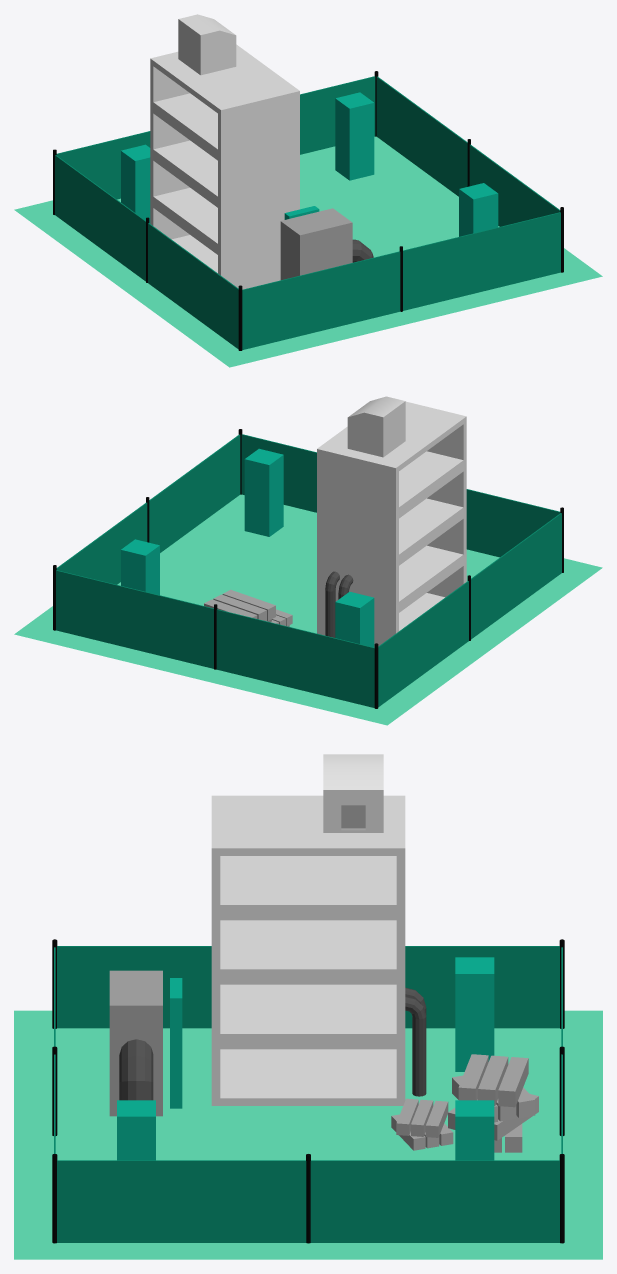
File: 88_green.fbx
3 renders of one model, top to bottom at view 1: azimuth 30°, elevation 25°; view 2: azimuth 150°, elevation 25°; view 3: azimuth 270°, elevation 25°, orthographic. The views are drawn at different scales.
Visible parts, largest first — view 1: pCube229, ght_ght4, pCube228, pCube227, pCube222, pCube217, pCube225, pCube233, pCube239, pCube226, pCube224, pCube241 (+3 smaller); view 2: pCube229, ght_ght4, pCube223, pCube224, pCube217, pCube222, pCube226, pCube228, pCube238, pCube225, pCube241, pCube227 (+5 smaller); view 3: ght_ght4, pCube229, pCube225, pCube226, pCube222, pCube217, pCube233, pCube241, pCube240, pCube239, pCube238, pCylinder44 (+5 smaller).
Part boxes in pixels (<box>): pCube229: <box>150,44,299,289</box>; ght_ght4: <box>14,136,602,367</box>; pCube228: <box>242,251,400,349</box>; pCube227: <box>403,212,560,310</box>; pCube222: <box>55,155,145,281</box>; pCube217: <box>148,223,238,349</box>; pCube225: <box>376,76,467,196</box>; pCube233: <box>280,208,352,280</box>; pCube239: <box>335,92,374,180</box>; pCube226: <box>469,144,560,226</box>; pCube224: <box>300,76,375,154</box>; pCube241: <box>178,14,236,75</box>; pCube229: <box>317,401,466,647</box>; ght_ght4: <box>14,494,602,725</box>; pCube223: <box>216,609,374,707</box>; pCube224: <box>56,570,213,668</box>; pCube217: <box>471,513,561,639</box>; pCube222: <box>378,581,468,706</box>; pCube226: <box>149,434,240,552</box>; pCube228: <box>466,489,560,557</box>; pCube238: <box>244,448,283,536</box>; pCube225: <box>56,502,147,584</box>; pCube241: <box>347,396,405,457</box>; pCube227: <box>241,434,316,512</box>; ght_ght4: <box>14,1010,602,1259</box>; pCube229: <box>211,795,405,1105</box>; pCube225: <box>310,1160,559,1242</box>; pCube226: <box>57,1160,306,1242</box>; pCube222: <box>405,946,559,1028</box>; pCube217: <box>57,946,211,1028</box>; pCube233: <box>109,970,162,1116</box>; pCube241: <box>323,754,383,832</box>; pCube240: <box>455,957,494,1071</box>; pCube239: <box>455,1100,494,1160</box>; pCube238: <box>117,1100,155,1160</box>; pCylinder44: <box>119,1039,153,1100</box>.
Bounding box in the file's own units: 8 × 4.78 × 8.
